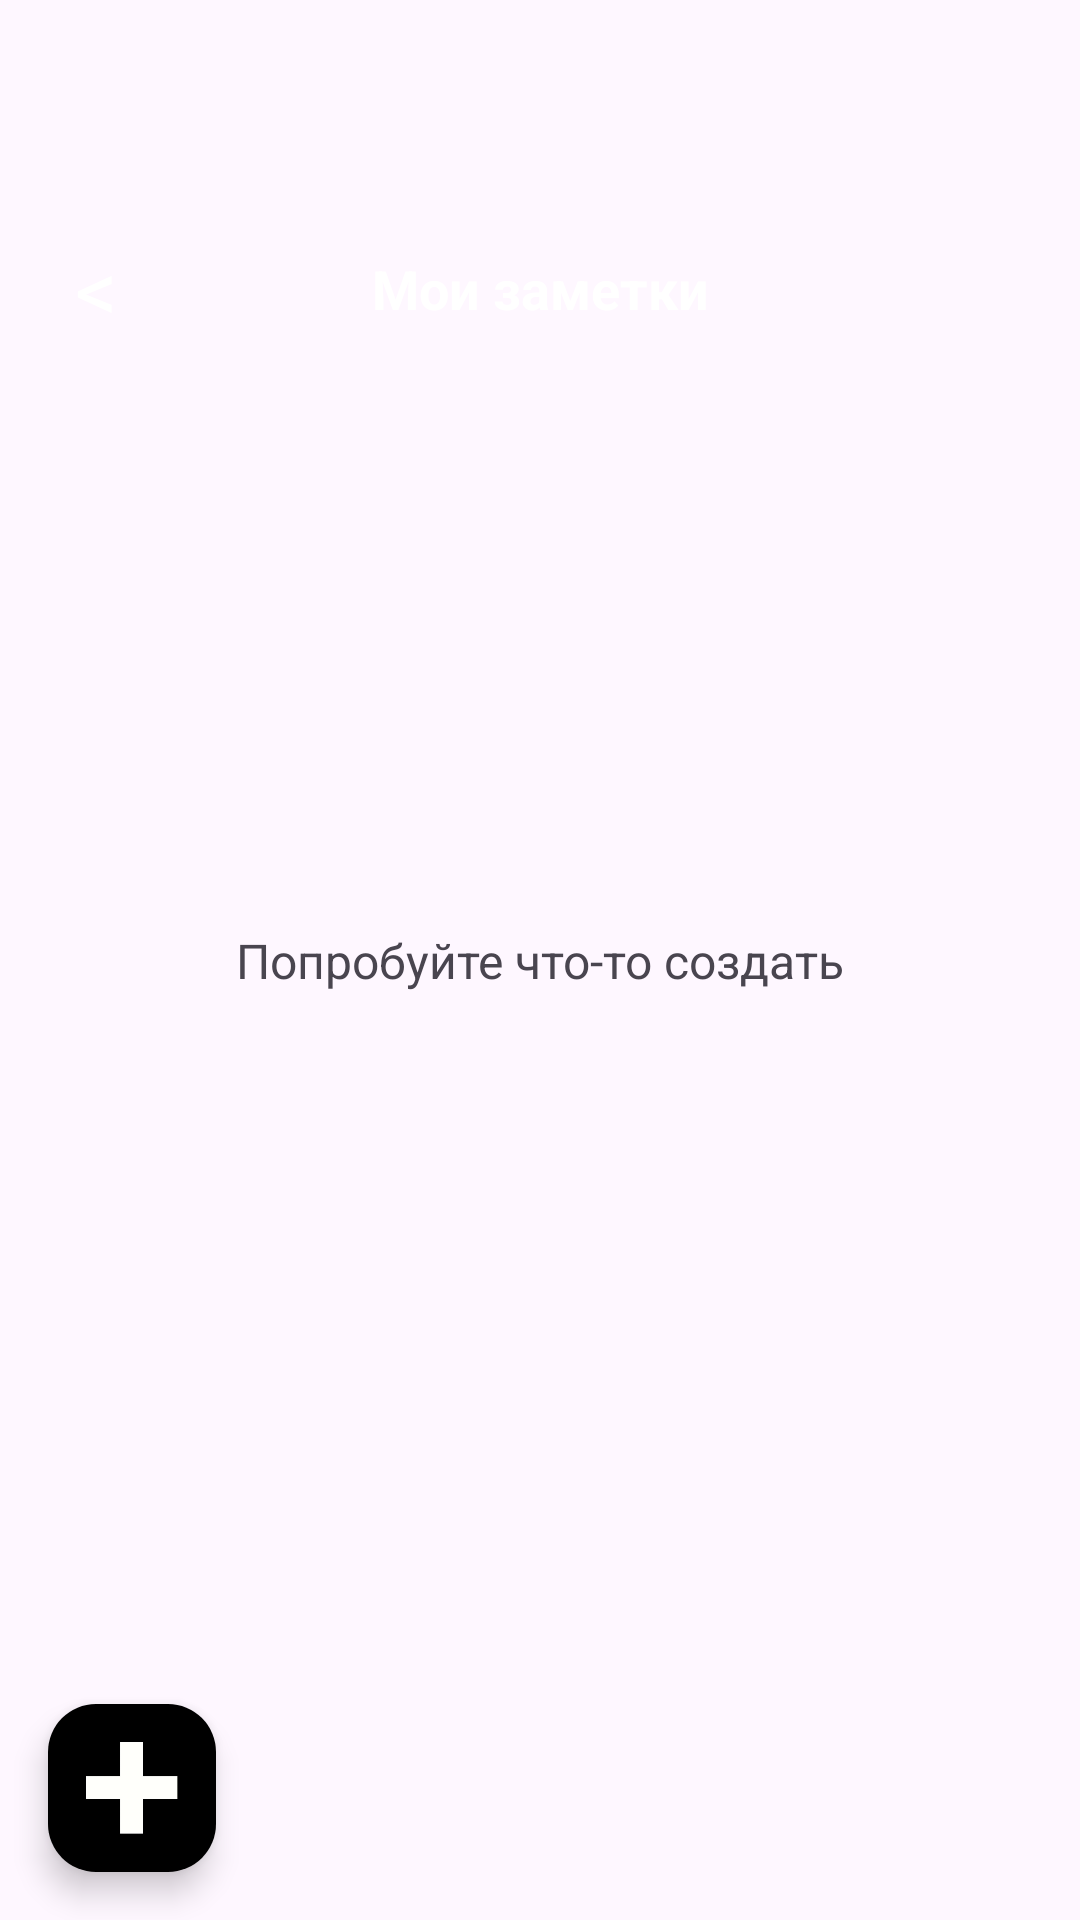

Point at icon controls on the screen. Image size 1080px×1920px, points as [x,y].
plus: [132,1788]
